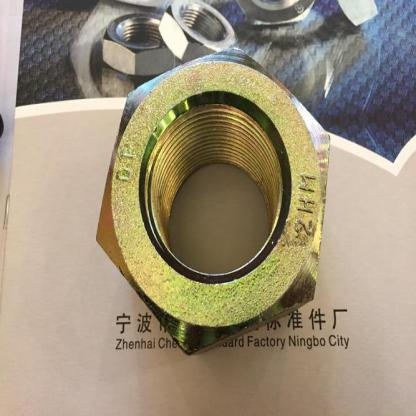FOD: (92, 47, 334, 360)
